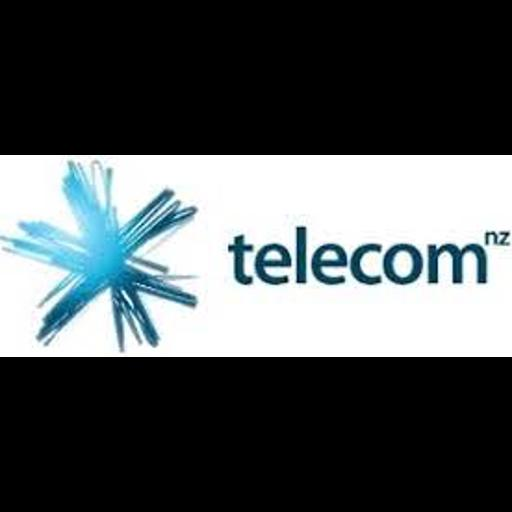Spark New Zealand: (0, 155, 512, 357)
